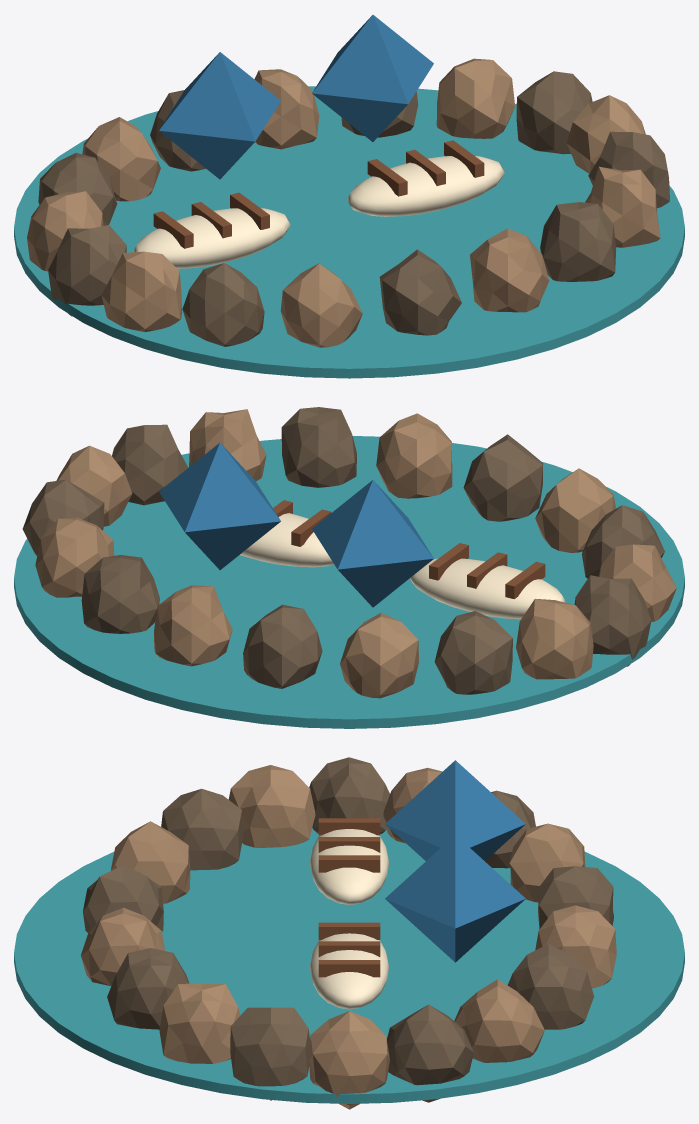
The model's file is crystal.glb.
3 views of the same model, one above another, from view 1: azimuth 30°, elevation 25°; view 2: azimuth 150°, elevation 25°; view 3: azimuth 270°, elevation 25° (orthographic).
Size of the model in its own units: 3.83 by 1.16 by 3.8.
